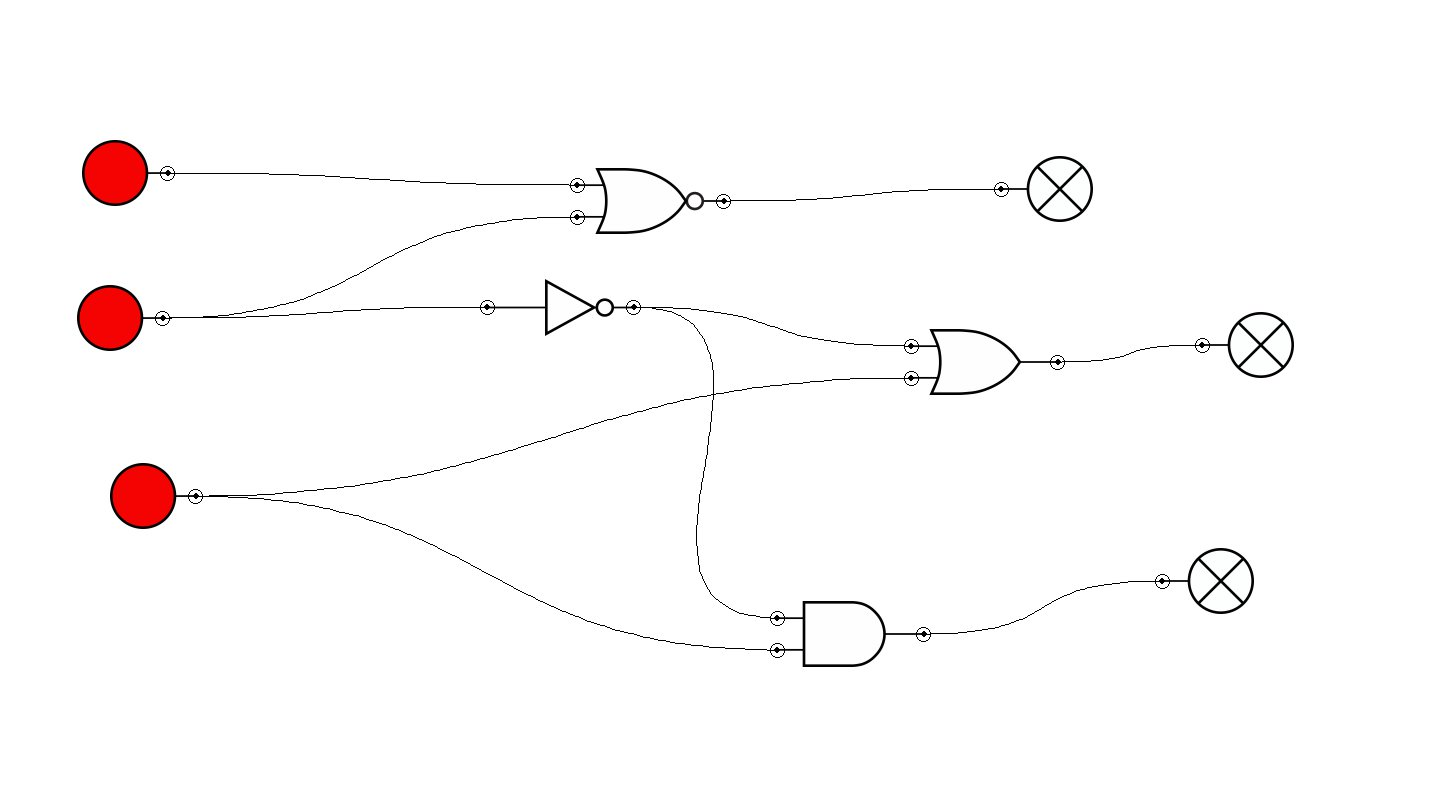and: (770, 601, 931, 667)
bulb: (1155, 548, 1254, 614), (1195, 312, 1294, 378), (994, 156, 1093, 222)
nor: (570, 168, 731, 234)
not: (480, 279, 641, 336)
or: (904, 329, 1065, 395)
switch_False: (82, 140, 175, 206), (110, 463, 203, 529), (77, 285, 170, 351)
